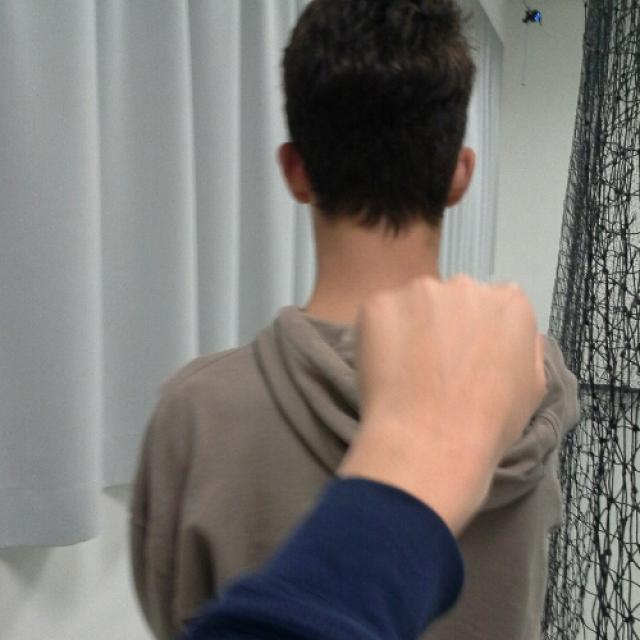rock: (357, 269, 553, 474)
